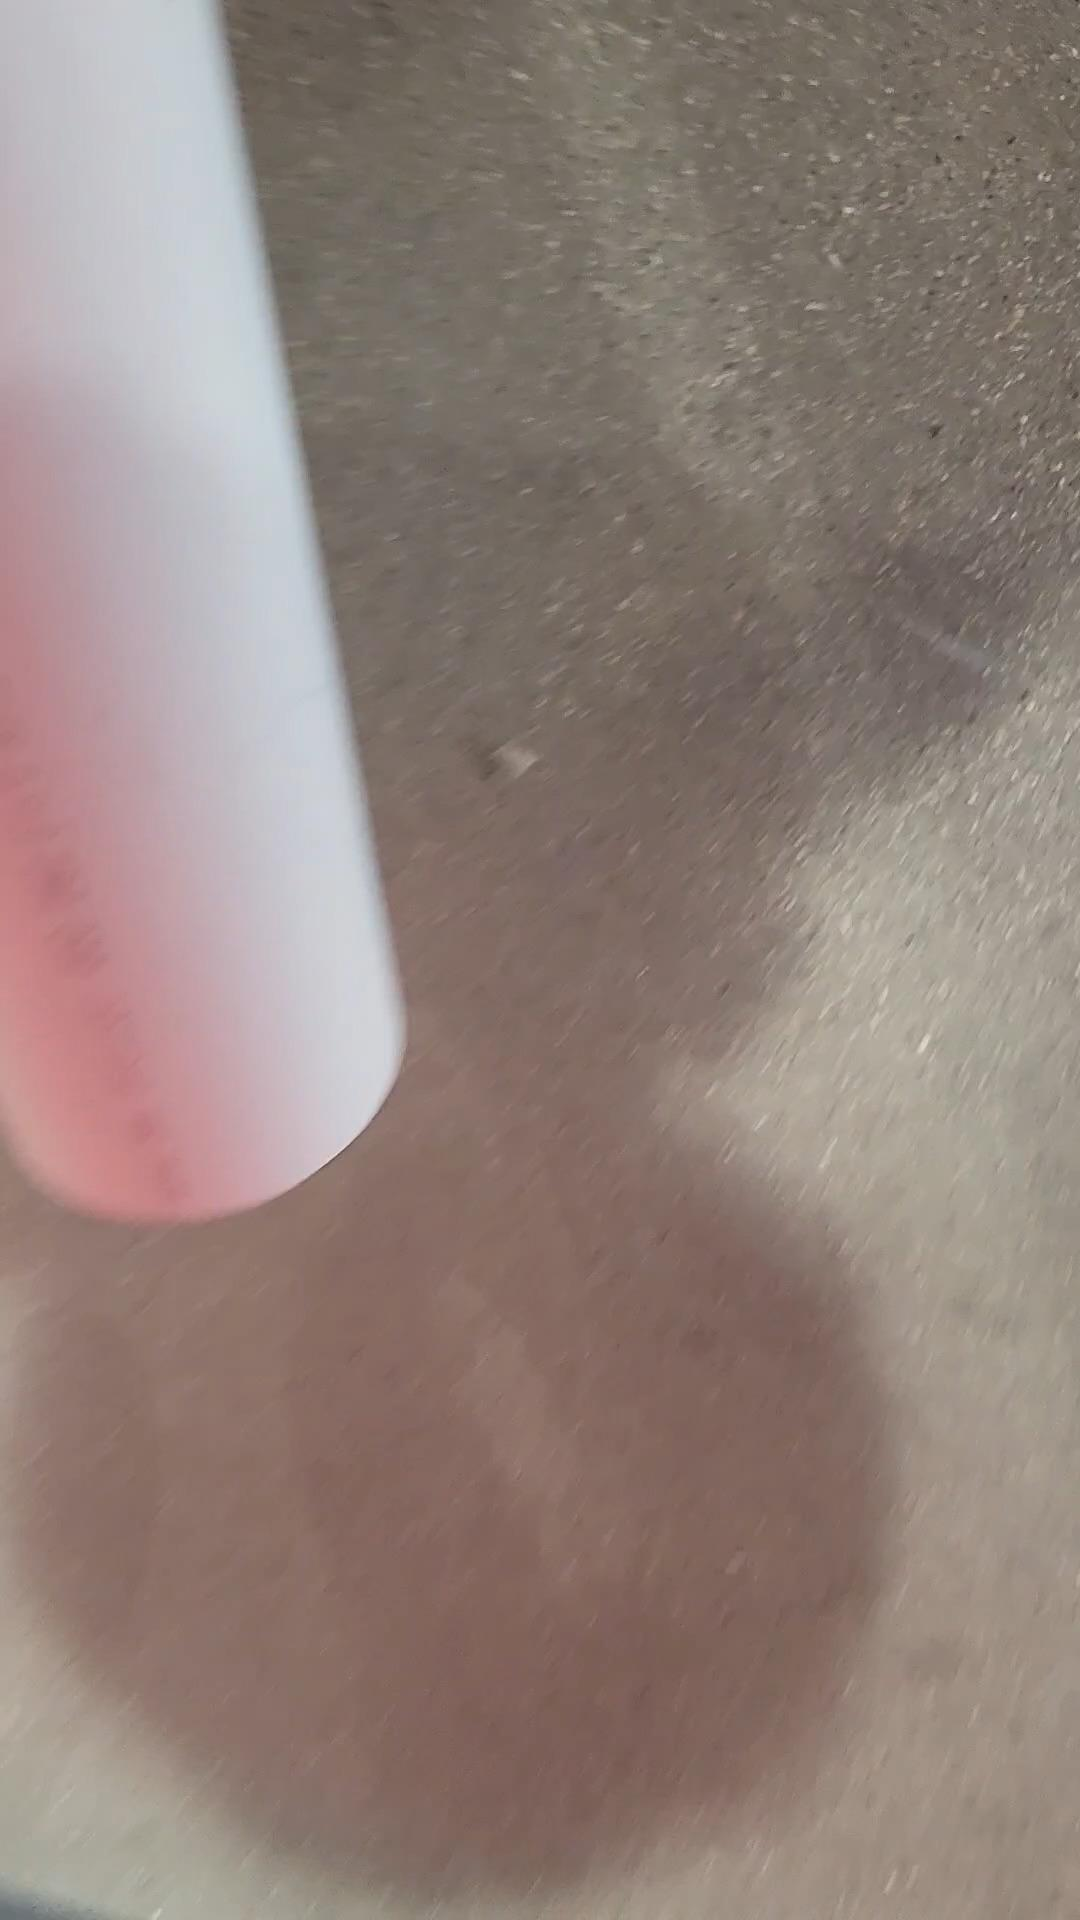coral: (0, 0, 405, 1228)
